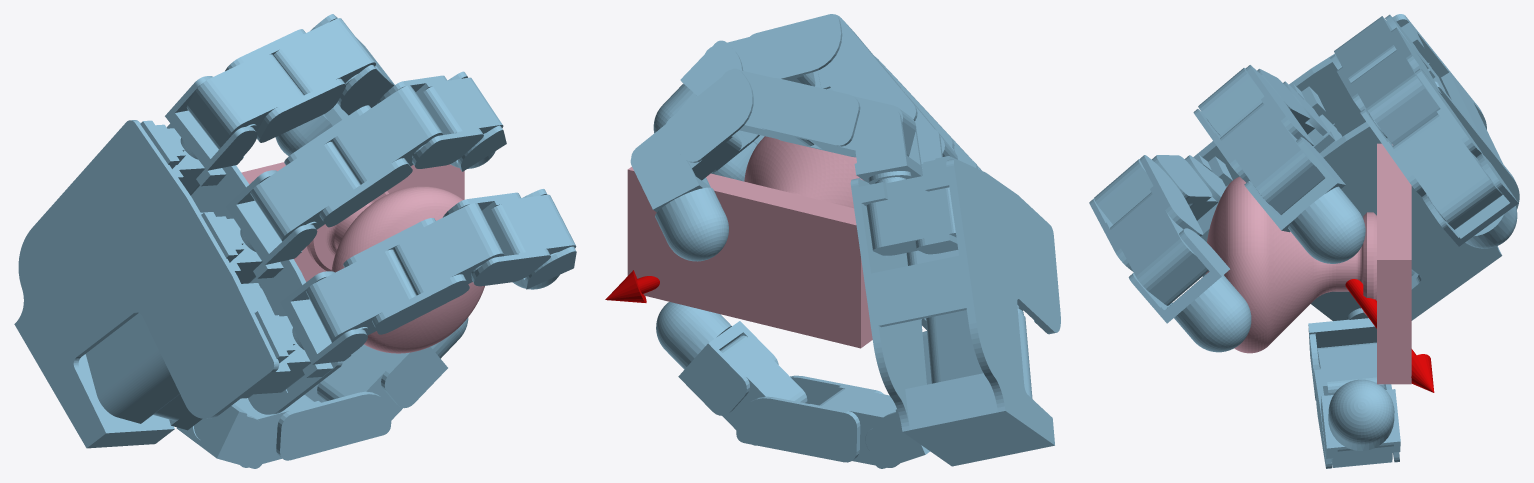
The picture shows the model from 3 angles, left to right: view 1: azimuth 30°, elevation 25°; view 2: azimuth 150°, elevation 25°; view 3: azimuth 270°, elevation 25°; orthographic projection. The views are drawn at different scales.
Visible parts, largest first — view 1: world, door_knob.stl; view 2: world, door_knob.stl; view 3: world, door_knob.stl.
Boxes of the visible parts, left/top/right/bottom form: world: left=14, top=14, right=576, bottom=468; door_knob.stl: left=241, top=162, right=484, bottom=353; world: left=605, top=14, right=1060, bottom=468; door_knob.stl: left=627, top=136, right=872, bottom=348; world: left=1089, top=14, right=1519, bottom=468; door_knob.stl: left=1205, top=143, right=1411, bottom=384.
Bounding box in the file's own units: 0.1814 × 0.1597 × 0.1565.
